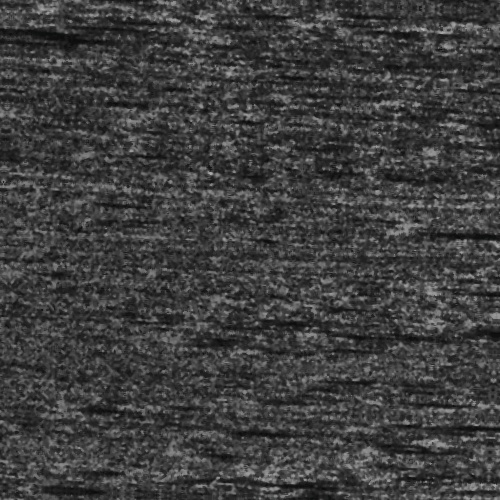object: (379, 420, 500, 439), (377, 218, 440, 223), (290, 326, 353, 331)
shadow: (451, 420, 500, 439), (322, 326, 452, 331), (409, 218, 500, 223)
